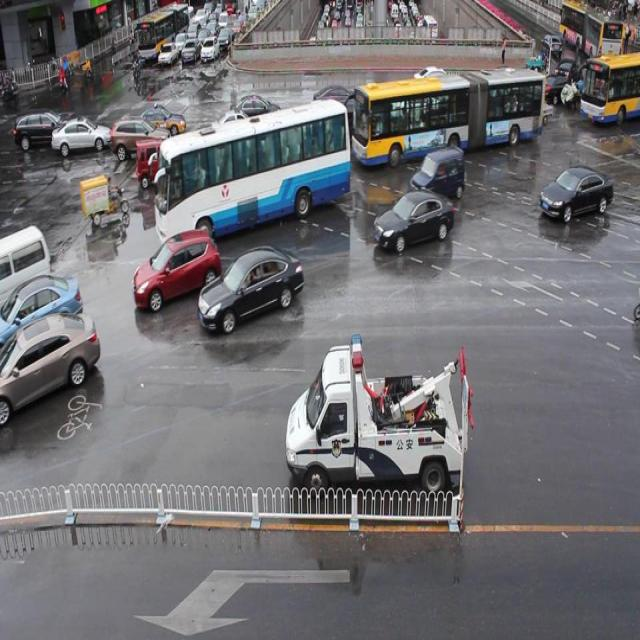bus: (286, 333, 474, 494)
car: (1, 316, 100, 421), (198, 245, 302, 333), (1, 276, 84, 355), (134, 233, 221, 306), (373, 193, 454, 250), (539, 169, 612, 216), (411, 149, 464, 199), (110, 116, 171, 159), (313, 99, 367, 142), (134, 138, 180, 188), (53, 119, 113, 154), (219, 120, 270, 161), (16, 112, 70, 150), (210, 107, 256, 145), (312, 85, 363, 118), (298, 101, 342, 137), (412, 64, 456, 96), (234, 96, 283, 124), (489, 81, 525, 119), (397, 84, 441, 115), (140, 104, 186, 133), (499, 66, 536, 101), (535, 72, 571, 105), (426, 73, 459, 107)
truck: (1, 226, 52, 325)
van: (158, 107, 349, 238), (353, 70, 544, 162)
